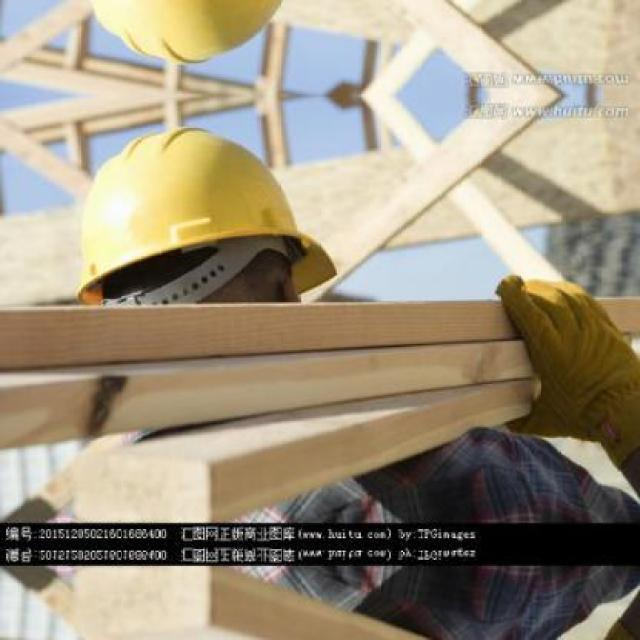helmet: (12, 116, 382, 366), (12, 0, 383, 76)
